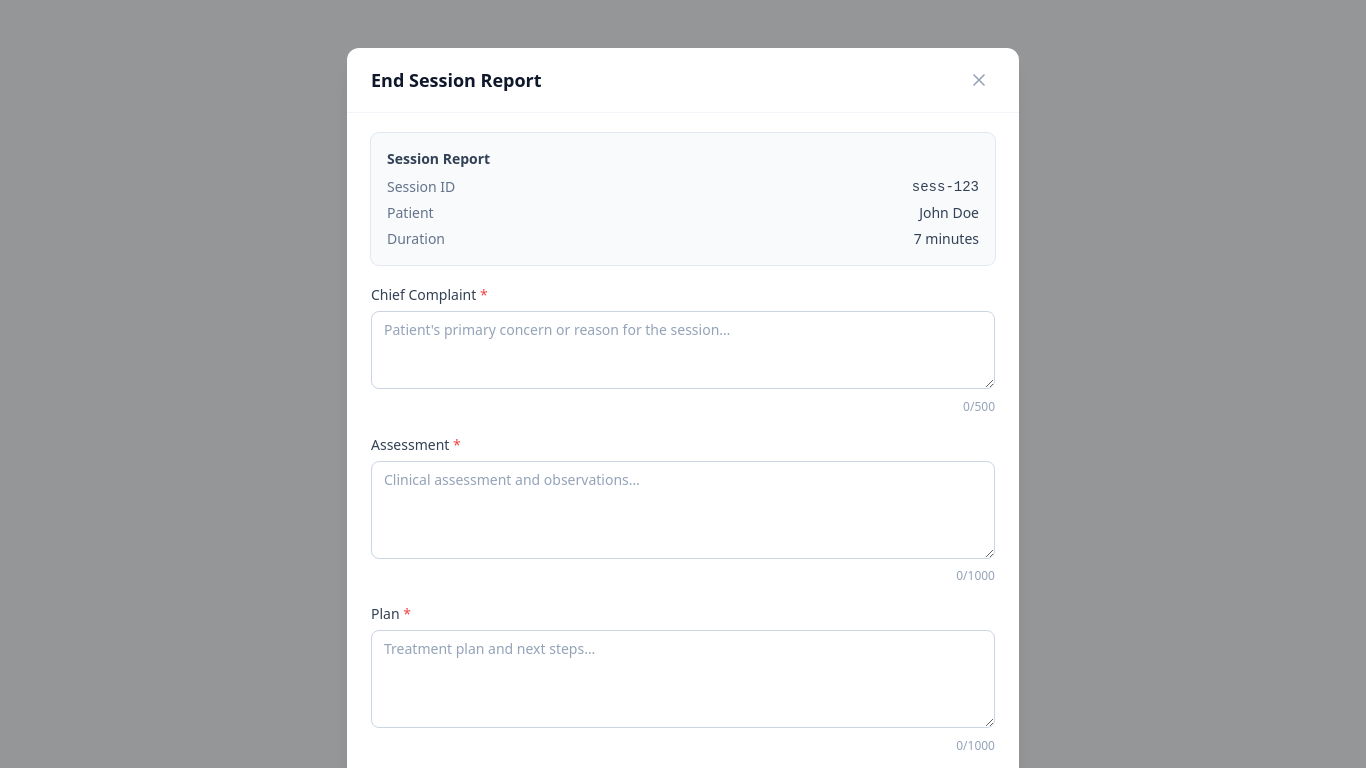
Test: ReportModal › handles API errors gracefully
// Fill out and submit the form
In the text box labelled "Chief Complaint *": (683, 350) x1=371 y1=311 x2=995 y2=389, type "Test complaint"
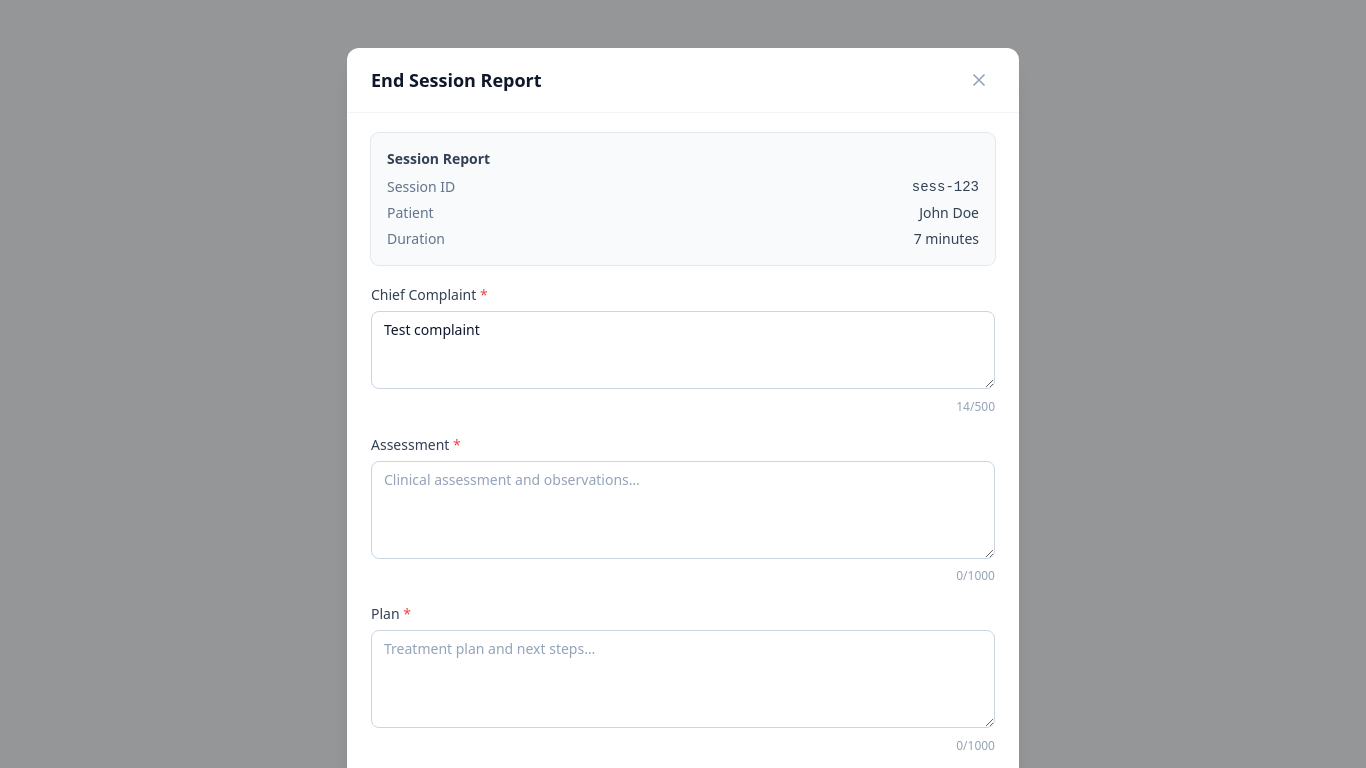
In the text box labelled "Assessment *": (683, 510) x1=371 y1=460 x2=995 y2=558, type "Test assessment"
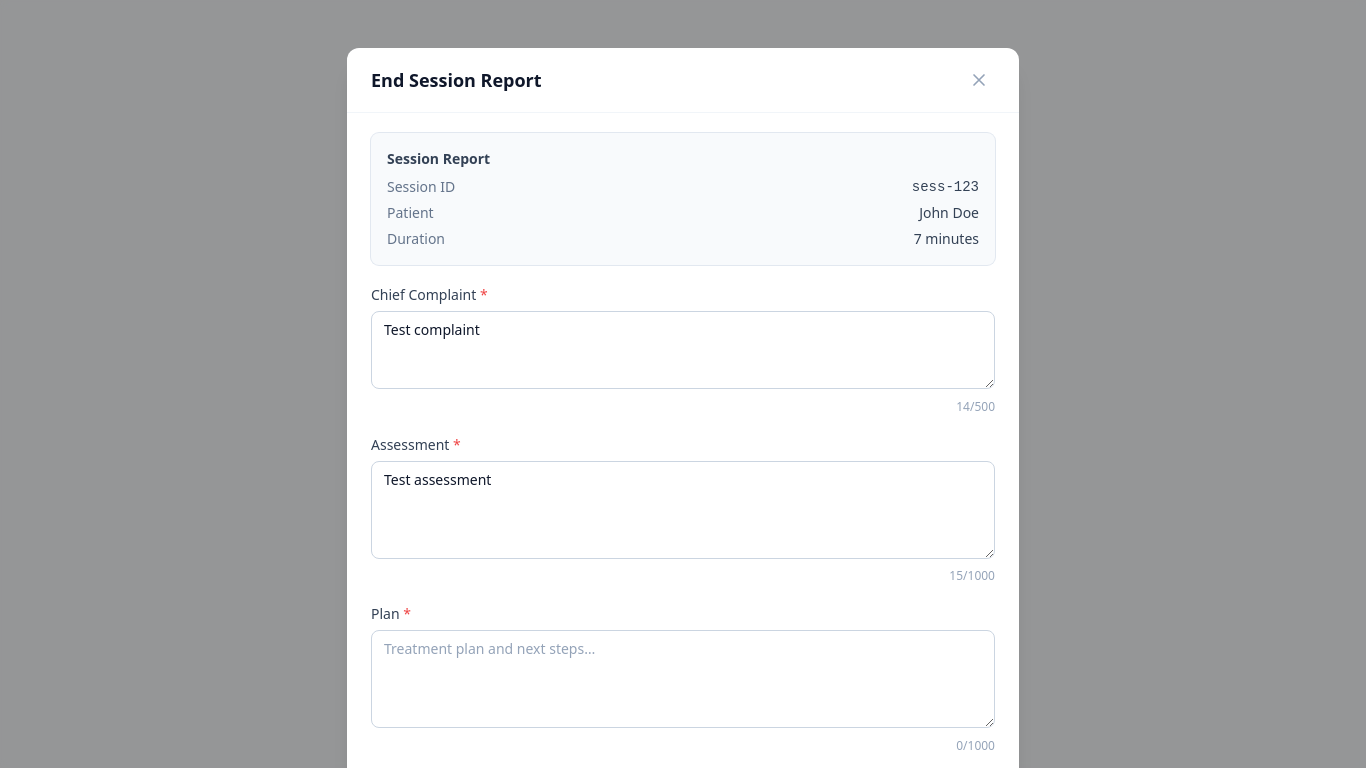
In the text box labelled "Plan *": (683, 679) x1=371 y1=630 x2=995 y2=728, type "Test plan"
(page scrolled)
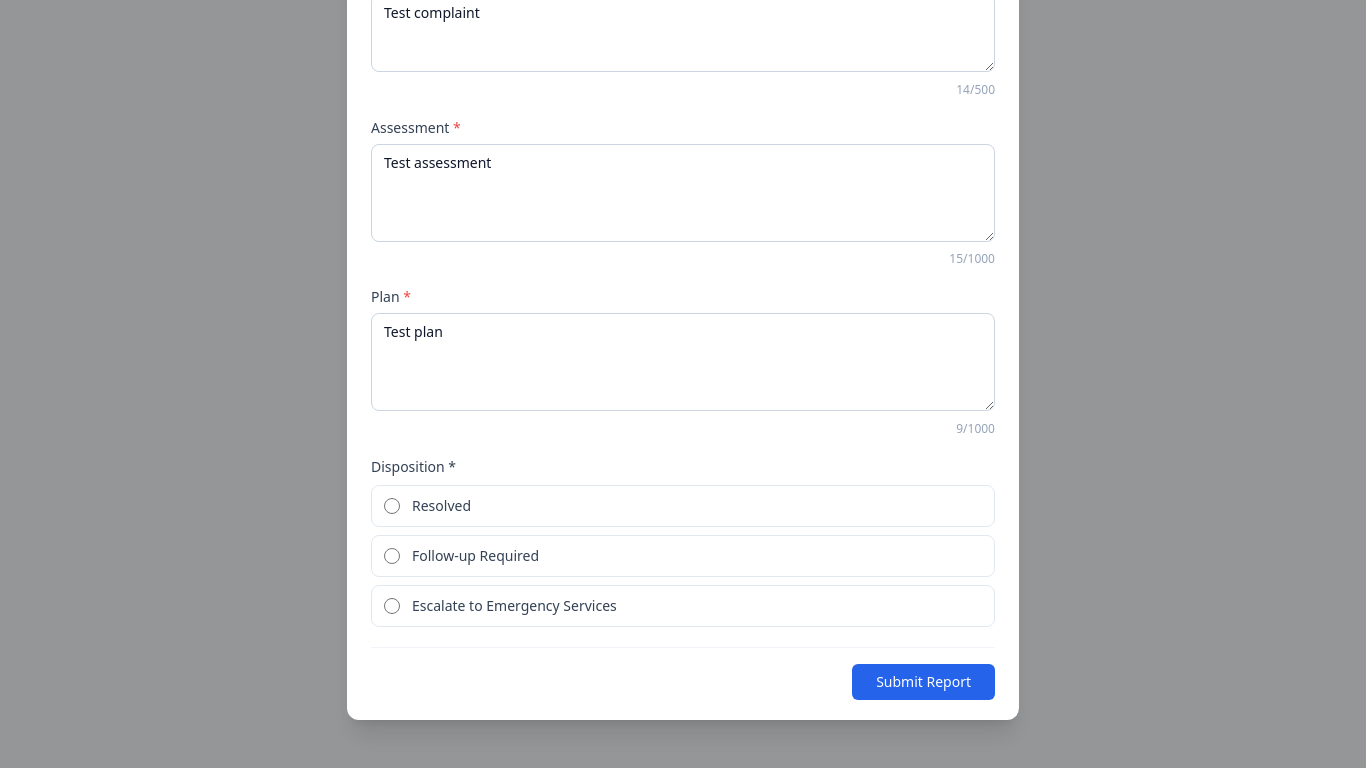
Click the radio button labelled "Resolved": (392, 506) x1=384 y1=498 x2=400 y2=514
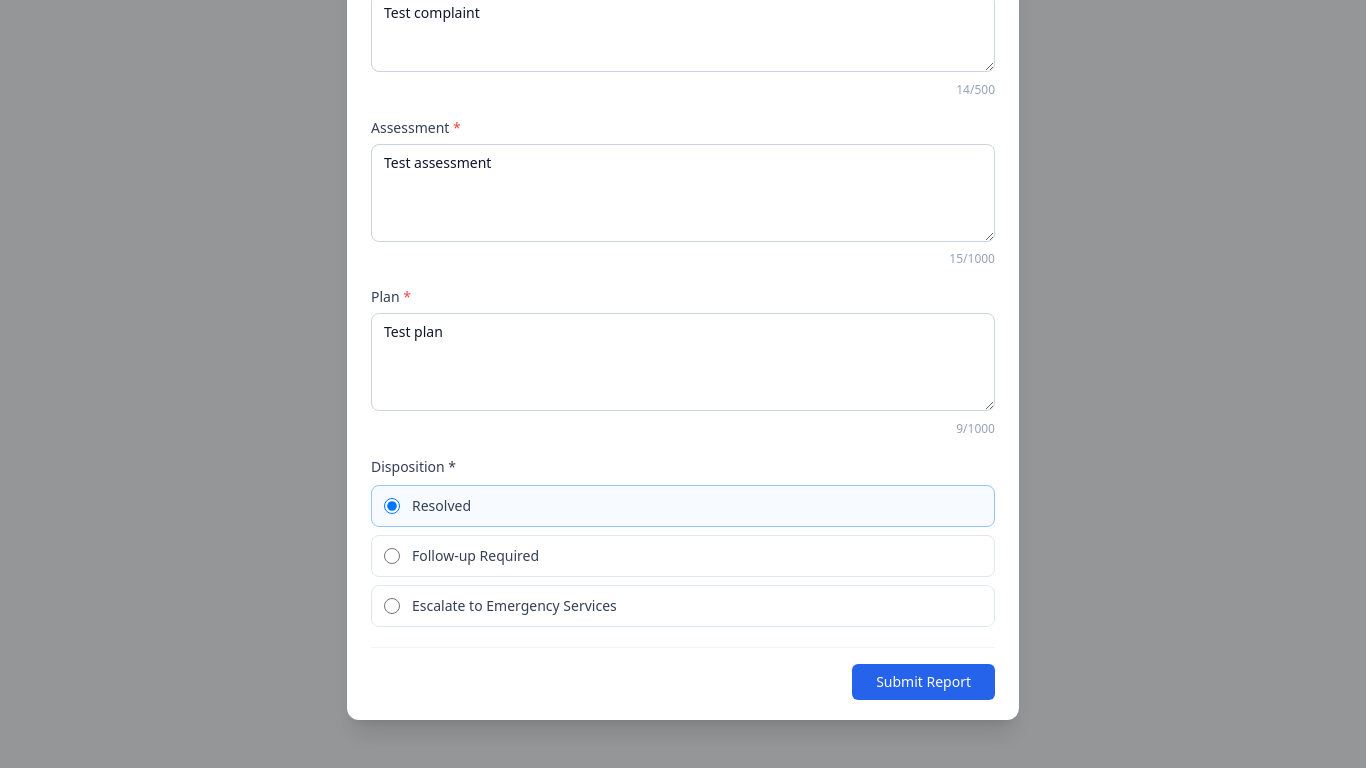
Click the button "Submit Report": (924, 682) x1=852 y1=664 x2=995 y2=700
(page scrolled)
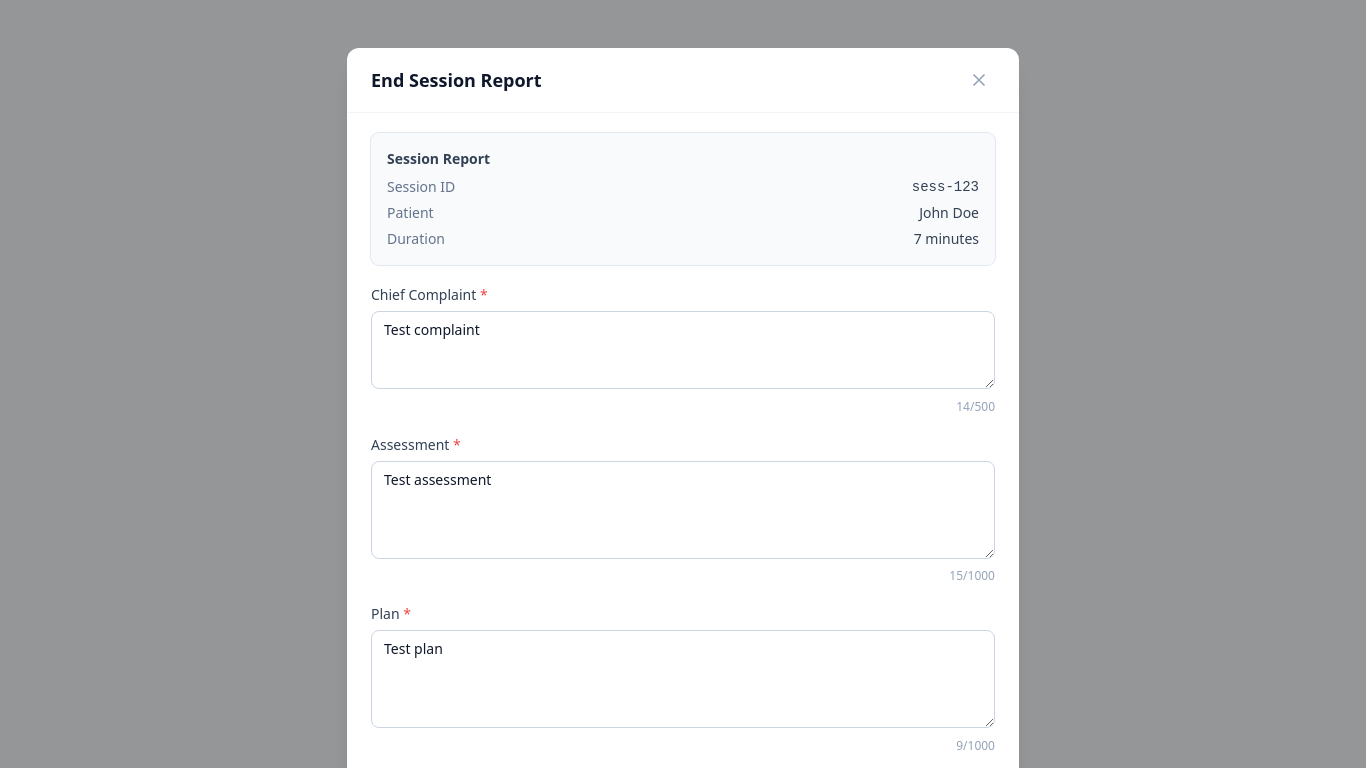
Now the heading "End Session Report" is shown, box x1=371 y1=66 x2=542 y2=94
